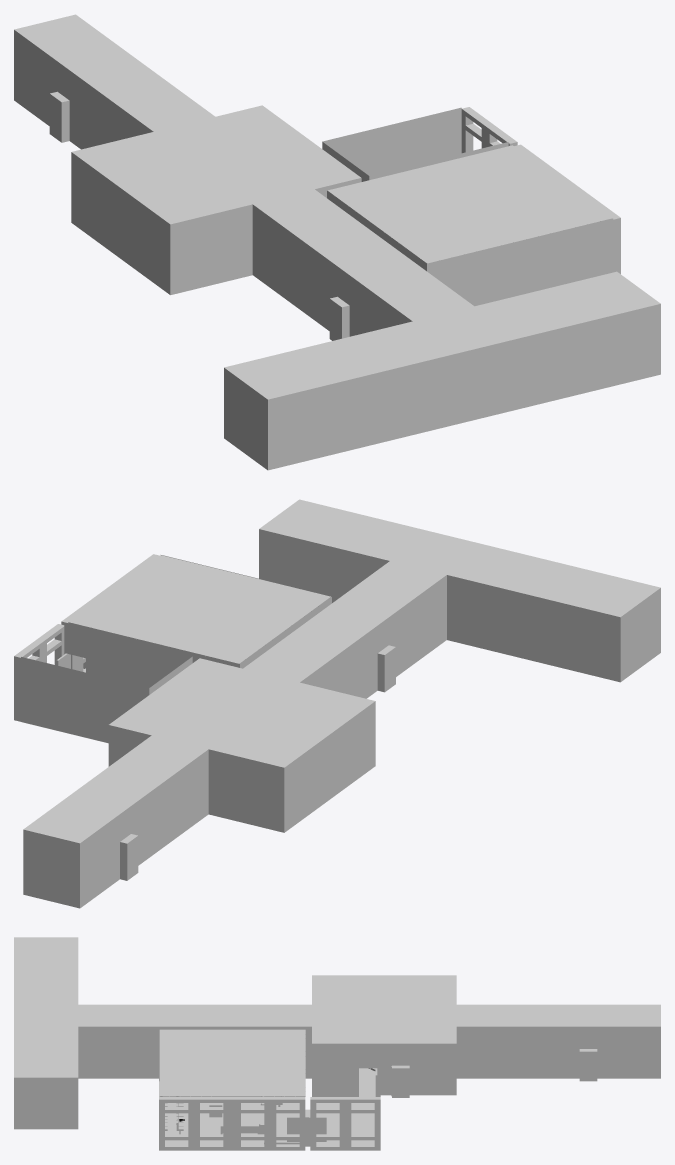
Rendered from Test_Court_Room_v1_1.fbx.
The picture shows the model from 3 angles, top to bottom: view 1: azimuth 30°, elevation 25°; view 2: azimuth 150°, elevation 25°; view 3: azimuth 270°, elevation 25°; orthographic projection. The views are drawn at different scales.
Visible parts, largest first — view 1: Room_Foyer_Wall, Room_Foyer_Roof, Room_Court_Roof, Room_Court_Wall_south, Room_ConsultationRoom_Wall_south, Room_Court_Wall_east.001, Room_Court_Wall_east, Room_Court_Wall_west; view 2: Room_Foyer_Wall, Room_Foyer_Roof, Room_Court_Roof, Room_ConsultationRoom_Wall_south, Room_Court_Wall_east.001, Room_Court_Wall_east, Room_Court_Wall_west, Room_Court_Wall_north; view 3: Room_Foyer_Roof, Room_Foyer_Wall, Room_Court_Roof, Room_Court_Wall_east, Room_ConsultationRoom_Wall_south, Room_Court_Wall_east.001, Room_Gallery, Room_Court_Floor, Room_Foyer_Floor, Table_Defendant.001.
Part boxes in pixels (x1=…): Room_Foyer_Wall: x1=14, y1=30, x2=660, y2=470; Room_Foyer_Roof: x1=14, y1=14, x2=660, y2=399; Room_Court_Roof: x1=328, y1=145, x2=611, y2=263; Room_Court_Wall_south: x1=427, y1=218, x2=613, y2=306; Room_ConsultationRoom_Wall_south: x1=322, y1=107, x2=508, y2=181; Room_Court_Wall_east.001: x1=461, y1=107, x2=517, y2=153; Room_Court_Wall_east: x1=514, y1=144, x2=620, y2=273; Room_Court_Wall_west: x1=327, y1=191, x2=426, y2=271; Room_Foyer_Wall: x1=23, y1=529, x2=660, y2=908; Room_Foyer_Roof: x1=23, y1=499, x2=660, y2=843; Room_Court_Roof: x1=69, y1=555, x2=330, y2=663; Room_ConsultationRoom_Wall_south: x1=21, y1=625, x2=192, y2=743; Room_Court_Wall_east.001: x1=14, y1=624, x2=64, y2=721; Room_Court_Wall_east: x1=61, y1=554, x2=159, y2=669; Room_Court_Wall_west: x1=240, y1=597, x2=331, y2=668; Room_Court_Wall_north: x1=68, y1=622, x2=239, y2=667; Room_Foyer_Roof: x1=14, y1=937, x2=660, y2=1077; Room_Foyer_Wall: x1=14, y1=1026, x2=660, y2=1129; Room_Court_Roof: x1=159, y1=1029, x2=305, y2=1095; Room_Court_Wall_east: x1=159, y1=1097, x2=305, y2=1150; Room_ConsultationRoom_Wall_south: x1=305, y1=1046, x2=380, y2=1146; Room_Court_Wall_east.001: x1=310, y1=1097, x2=380, y2=1150; Room_Gallery: x1=259, y1=1096, x2=374, y2=1144; Room_Court_Floor: x1=159, y1=1081, x2=259, y2=1144; Room_Foyer_Floor: x1=359, y1=1068, x2=375, y2=1095; Table_Defendant.001: x1=220, y1=1120, x2=259, y2=1134.
Bounding box in the file's own units: 2339 × 372 × 3965.
